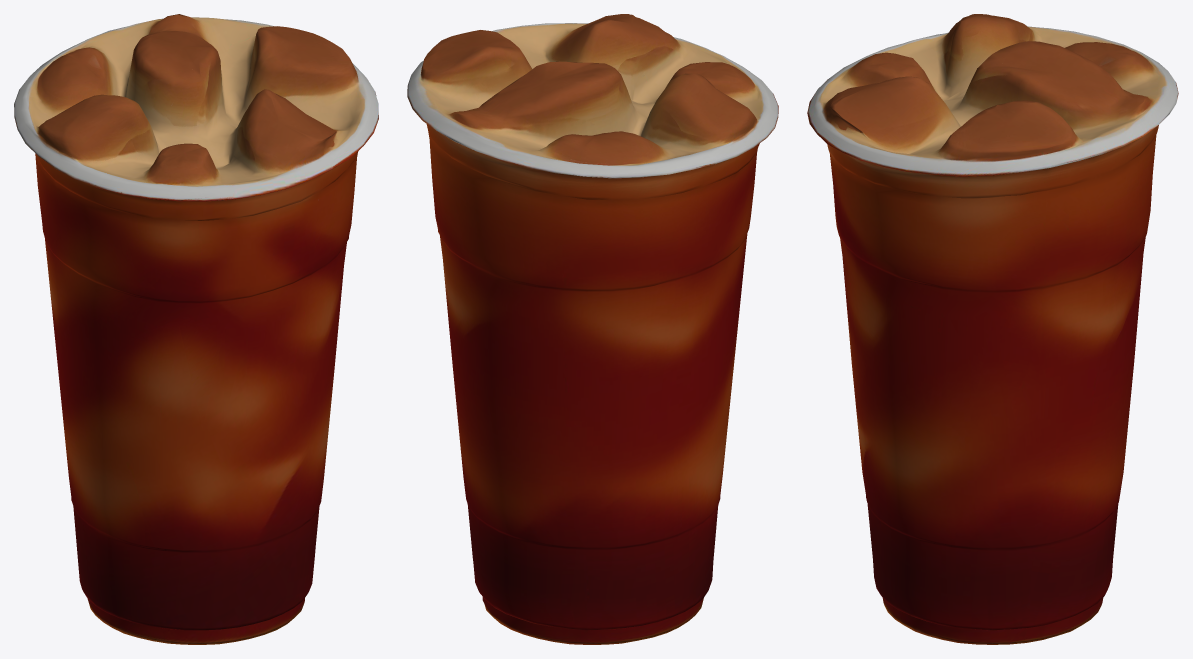
Rendered from 019e25dc-8b05-7d77-8b31-e616fe8eff93.glb.
3 renders of one model, left to right at view 1: azimuth 30°, elevation 25°; view 2: azimuth 150°, elevation 25°; view 3: azimuth 270°, elevation 25°, orthographic.
Parts seen in each view (by area): view 1: tripo_node_1480cd9a-0a56-4b58-a212-5373d2d7e0e6; view 2: tripo_node_1480cd9a-0a56-4b58-a212-5373d2d7e0e6; view 3: tripo_node_1480cd9a-0a56-4b58-a212-5373d2d7e0e6.
Part boxes in pixels (<box>): tripo_node_1480cd9a-0a56-4b58-a212-5373d2d7e0e6: <box>14,14,378,644</box>; tripo_node_1480cd9a-0a56-4b58-a212-5373d2d7e0e6: <box>407,14,778,644</box>; tripo_node_1480cd9a-0a56-4b58-a212-5373d2d7e0e6: <box>807,14,1178,644</box>.
Size of the model in its own units: 0.6191 by 0.998 by 0.6191.
1 material, 1 textured.
